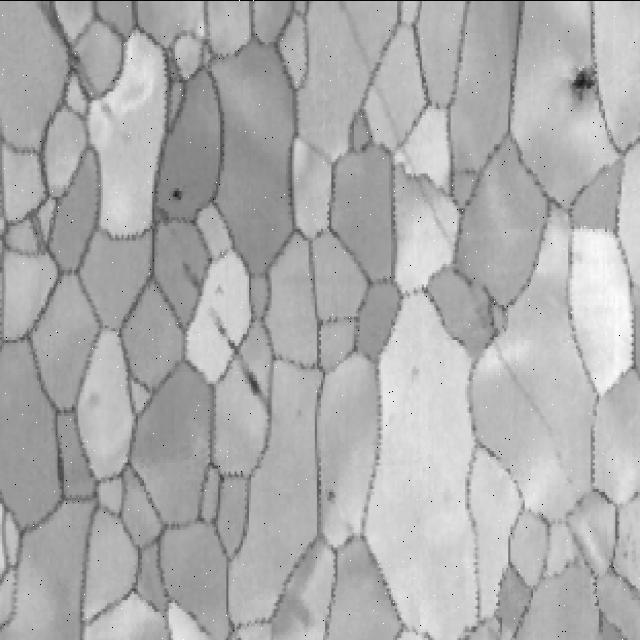good_void: (240, 358, 263, 401), (564, 57, 582, 110), (165, 173, 190, 209), (84, 384, 104, 417), (325, 480, 338, 504), (409, 362, 425, 381)
